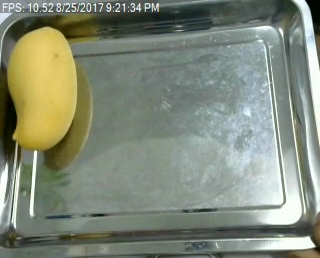Mango: (5, 25, 78, 149)
